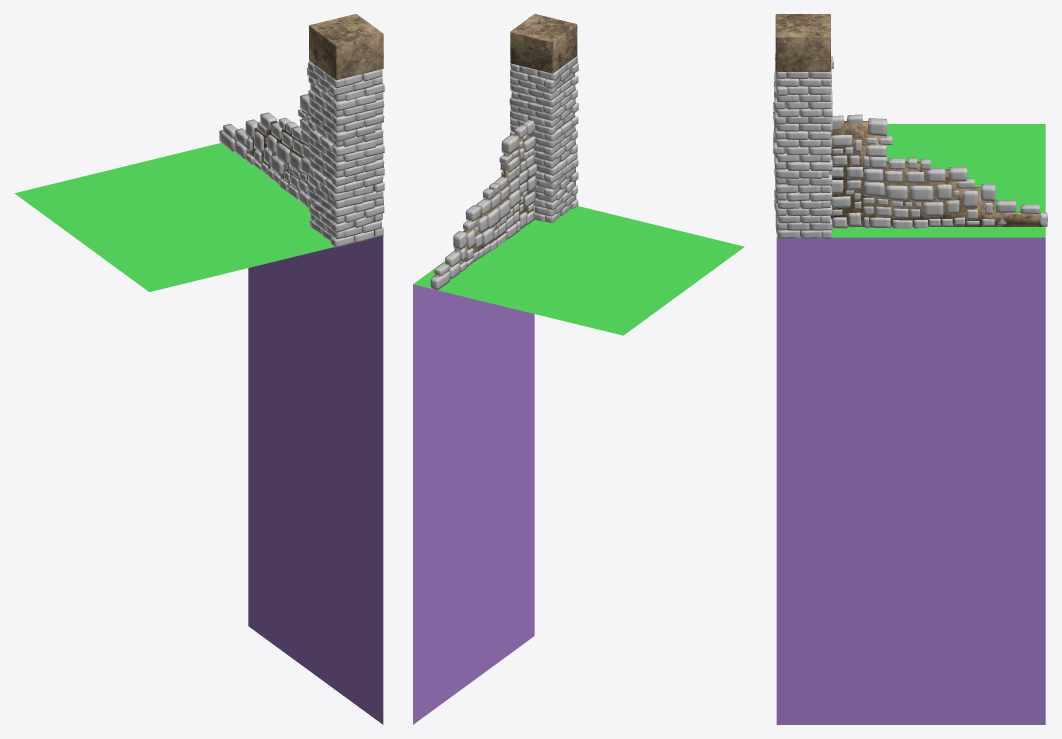
Rendered from Wall_1.fbx.
3 views of the same model, side by side, from view 1: azimuth 30°, elevation 25°; view 2: azimuth 150°, elevation 25°; view 3: azimuth 270°, elevation 25° (orthographic). The views are drawn at different scales.
Visible parts, largest first — view 1: Wall_1; view 2: Wall_1; view 3: Wall_1.
Part boxes in pixels (x1,y1,x2,y2): Wall_1: (14, 14, 384, 724); Wall_1: (413, 14, 744, 724); Wall_1: (773, 14, 1047, 724).
Bounding box in the file's own units: 404 × 1130 × 409.
